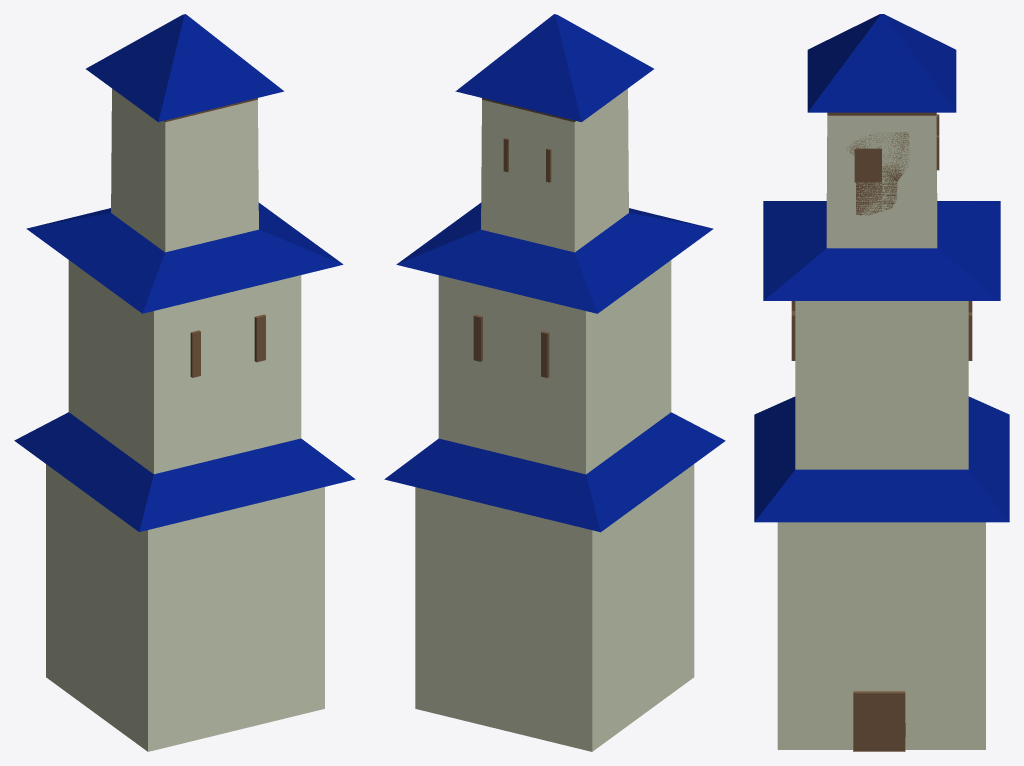
File: SmallBuilding2.fbx
3 views of the same model, side by side, from view 1: azimuth 30°, elevation 25°; view 2: azimuth 150°, elevation 25°; view 3: azimuth 270°, elevation 25° (orthographic).
Parts seen in each view (by area): view 1: Cube, Cube_cell.032, Cube_cell.080, Cube_cell.022, Cube_cell.008, Cube_cell.063, Cube_cell.073, Cube_cell.020, Cube_cell.084, Cube_cell.098, Cube_cell.009, Cube_cell.077 (+21 smaller); view 2: Cube, Cube_cell.038, Cube_cell.032, Cube_cell.028, Cube_cell.020, Cube_cell.008, Cube_cell.063, Cube_cell.010, Cube_cell.040, Cube_cell.070, Cube_cell.009, Cube_cell.091 (+6 smaller); view 3: Cube, Cube_cell.097, Cube_cell.054, Cube_cell.080, Cube_cell.028, Cube_cell.022, Cube_cell.066, Cube_cell.045, Cube_cell.012, Cube_cell.043, Cube_cell.004, Cube_cell.064 (+23 smaller).
Part boxes in pixels (box(x1,y1,x2,y2)): Cube: box(15, 14, 327, 751); Cube_cell.032: box(59, 441, 245, 688); Cube_cell.080: box(236, 454, 355, 598); Cube_cell.022: box(216, 386, 321, 513); Cube_cell.008: box(109, 348, 195, 452); Cube_cell.063: box(84, 178, 212, 289); Cube_cell.073: box(151, 66, 220, 187); Cube_cell.020: box(14, 390, 110, 550); Cube_cell.084: box(188, 179, 260, 285); Cube_cell.098: box(192, 132, 258, 205); Cube_cell.009: box(95, 279, 206, 329); Cube_cell.077: box(260, 332, 301, 413); Cube: box(384, 14, 725, 751); Cube_cell.038: box(491, 583, 694, 751); Cube_cell.032: box(621, 390, 713, 635); Cube_cell.028: box(415, 536, 549, 684); Cube_cell.020: box(586, 419, 645, 601); Cube_cell.008: box(626, 318, 671, 422); Cube_cell.063: box(603, 209, 666, 270); Cube_cell.010: box(626, 268, 671, 350); Cube_cell.040: box(441, 686, 491, 726); Cube_cell.070: box(567, 274, 649, 313); Cube_cell.009: box(644, 212, 713, 263); Cube_cell.091: box(586, 294, 627, 359); Cube: box(754, 14, 1009, 751); Cube_cell.097: box(777, 585, 879, 719); Cube_cell.054: box(882, 424, 985, 524); Cube_cell.080: box(754, 498, 881, 616); Cube_cell.028: box(878, 574, 985, 705); Cube_cell.022: box(754, 413, 881, 522); Cube_cell.066: box(900, 481, 1009, 573); Cube_cell.045: box(795, 311, 881, 378); Cube_cell.012: box(879, 588, 941, 695); Cube_cell.043: box(895, 213, 923, 320); Cube_cell.004: box(807, 55, 854, 112); Cube_cell.064: box(909, 57, 955, 126).
Size of the model in its own units: 980 by 2930 by 980.
